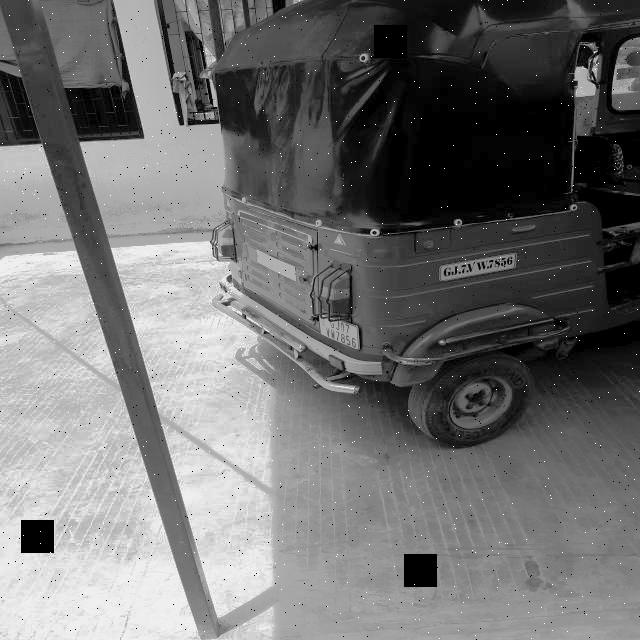Auto-Rickshaw: (191, 2, 640, 448)
